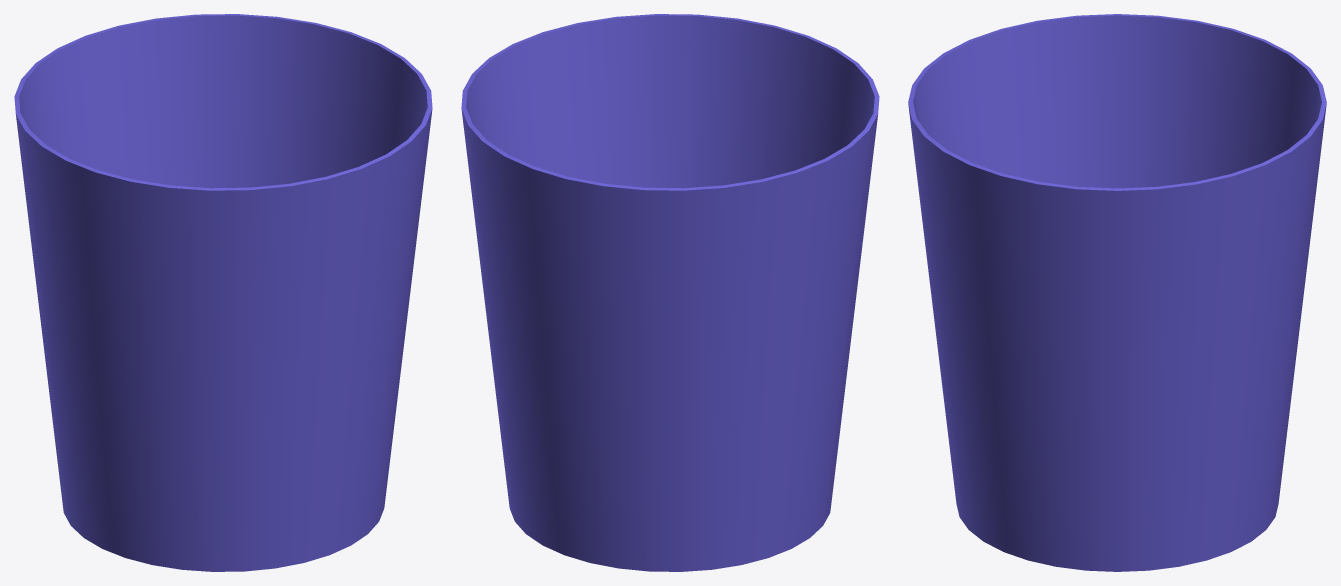
Rendered from TrashCan.fbx.
The picture shows the model from 3 angles, left to right: view 1: azimuth 30°, elevation 25°; view 2: azimuth 150°, elevation 25°; view 3: azimuth 270°, elevation 25°; orthographic projection.
Visible parts, largest first — view 1: TrashCan; view 2: TrashCan; view 3: TrashCan.
Boxes of the visible parts, bbox=[...] form: TrashCan: bbox=[14, 14, 432, 571]; TrashCan: bbox=[461, 14, 879, 571]; TrashCan: bbox=[908, 14, 1326, 571].
Bounding box in the file's own units: 260 × 275 × 260.
